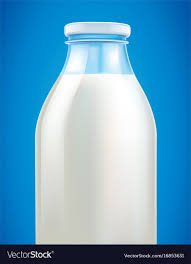milk: (24, 10, 165, 245)
